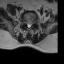CCS_severe_stenosis: (28, 21, 29, 30)
LFS_stenosis: (31, 21, 33, 26)
LLS_normal: (29, 22, 31, 28)
RFS_stenosis: (24, 19, 26, 26)
RLS_normal: (26, 21, 28, 28)
